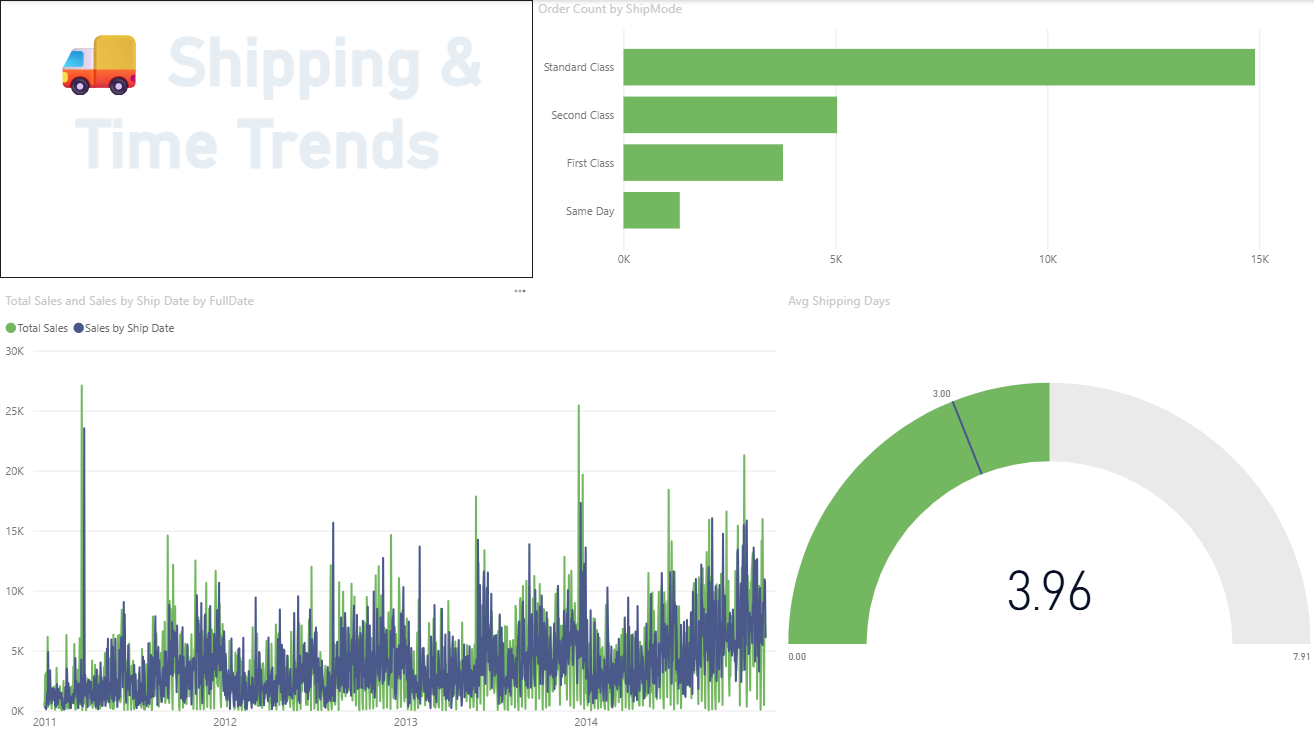

What the dashboard file says about the page in this screenshot:
{"tool":"powerbi","page":{"name":"🚚 Shipping","canvas":[1280,720],"ordinal":3},"visuals":[{"type":"lineChart","fields":{"Category":["DimDate.FullDate"],"Y":["Fact_Sales.Total Sales","Fact_Sales.Sales by Ship Date"]},"box":[0,284,761.6,435.7],"z":0},{"type":"gauge","fields":{"Y":["Fact_Sales.Avg Shipping Days"]},"box":[761.6,284,518.4,435.7],"z":1},{"type":"clusteredBarChart","fields":{"Category":["DimShipping.ShipMode"],"Y":["Fact_Sales.Order Count"]},"box":[518.4,0,761.6,270.4],"z":2},{"type":"textbox","box":[0,0,518,270],"z":3}]}

Visuals, with their boxes in screenshot pixels (x1, y1, x2, y2), scaled from the page's 1280x720 canvas onto the 1314x740 screenshot:
lineChart - DimDate.FullDate x Fact_Sales.Total Sales: locate(0, 292, 782, 739)
gauge - Fact_Sales.Avg Shipping Days: locate(782, 292, 1313, 739)
clusteredBarChart - DimShipping.ShipMode x Fact_Sales.Order Count: locate(532, 0, 1313, 278)
textbox: locate(0, 0, 532, 278)
